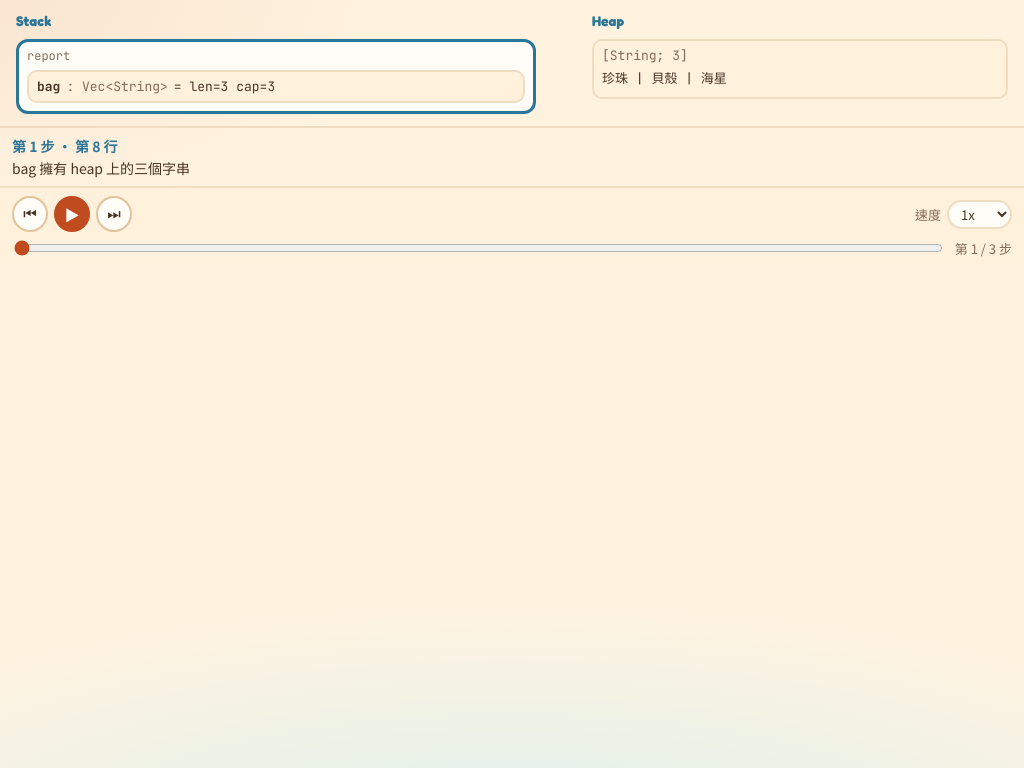
Test: F5 MemoryView › 從頭回到第 1 步
This screenshot has width=1024, height=768.
Set the slider named "進度" to "3" at (935, 248), box x1=14 y1=240 x2=943 y2=256
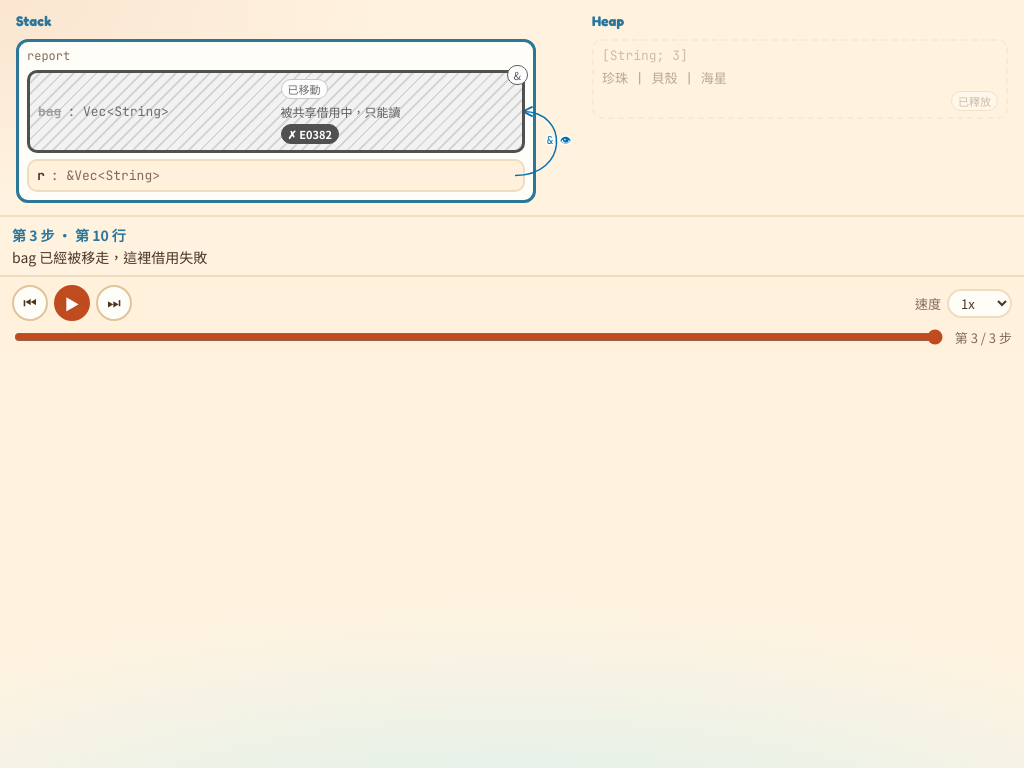
Click the button named "從頭" at (30, 303), box x1=12 y1=285 x2=48 y2=321
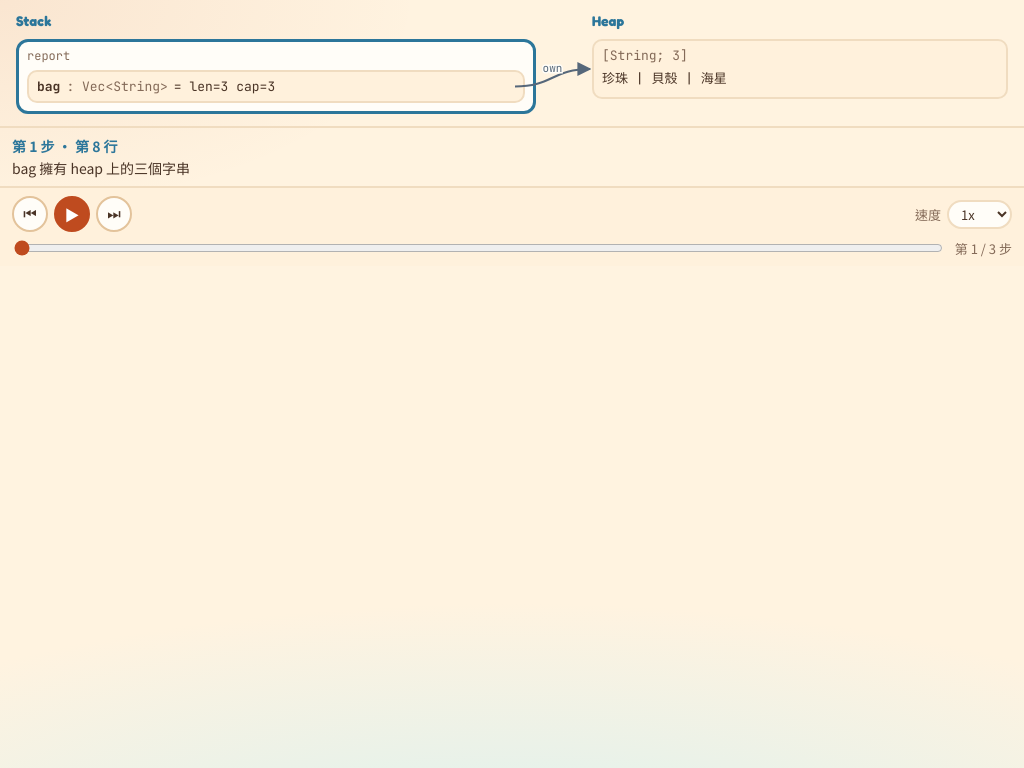
Expected: the text with test id "mem-caption" reads "第 1 步 · 第 8 行", x1=12 y1=136 x2=118 y2=156
